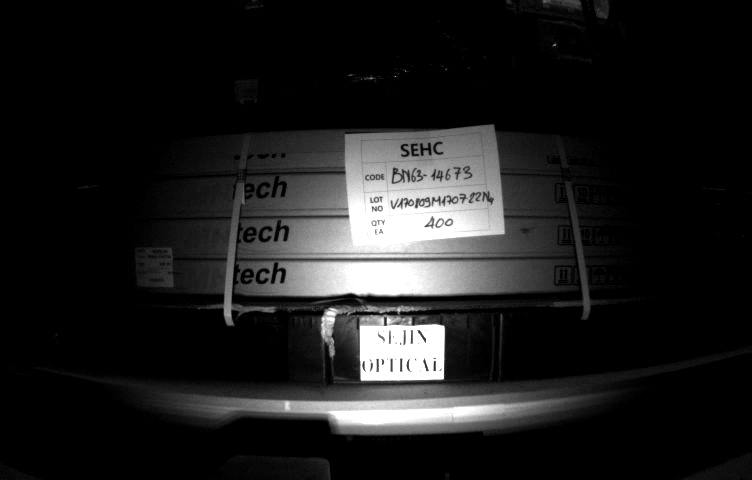True Barcode: (132, 245, 180, 290)
